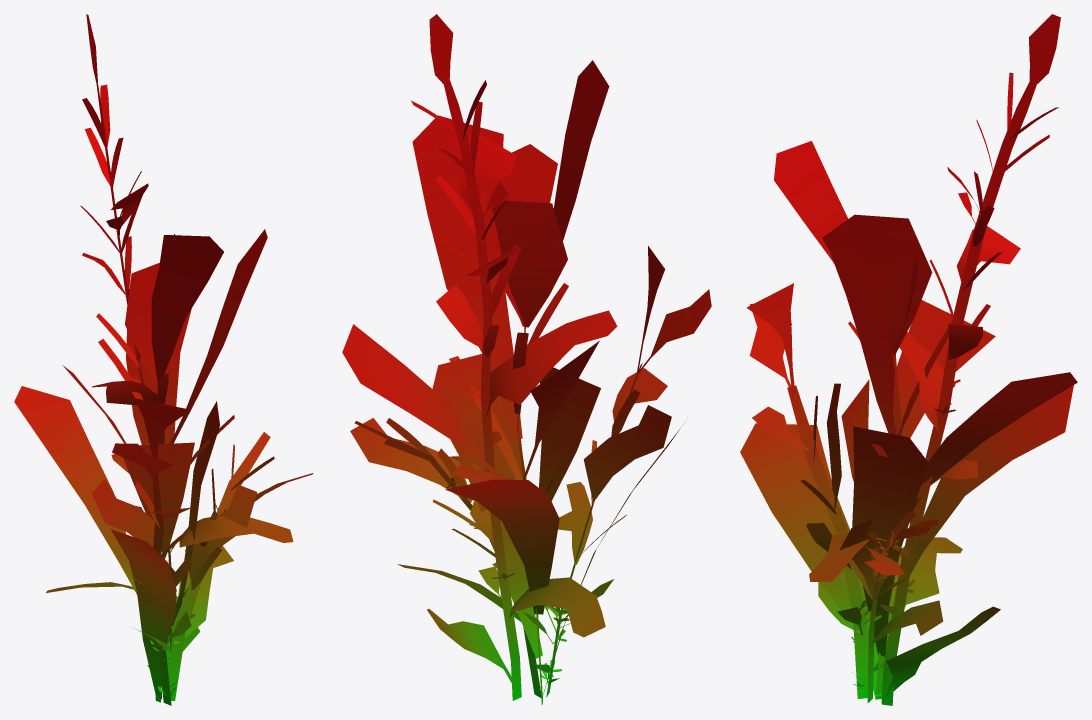
File: Green Herb_LOD2_Var3_tbbpaier.fbx
3 views of the same model, side by side, from view 1: azimuth 30°, elevation 25°; view 2: azimuth 150°, elevation 25°; view 3: azimuth 270°, elevation 25° (orthographic). The views are drawn at different scales.
Parts seen in each view (by area): view 1: _0c17_Var3_LOD2; view 2: _0c17_Var3_LOD2; view 3: _0c17_Var3_LOD2.
Boxes of the visible parts, x1,y1,x2,y2 form: _0c17_Var3_LOD2: [14, 14, 313, 705]; _0c17_Var3_LOD2: [342, 14, 711, 704]; _0c17_Var3_LOD2: [740, 14, 1077, 705].
Size of the model in its own units: 9.41 by 22.63 by 10.05.
